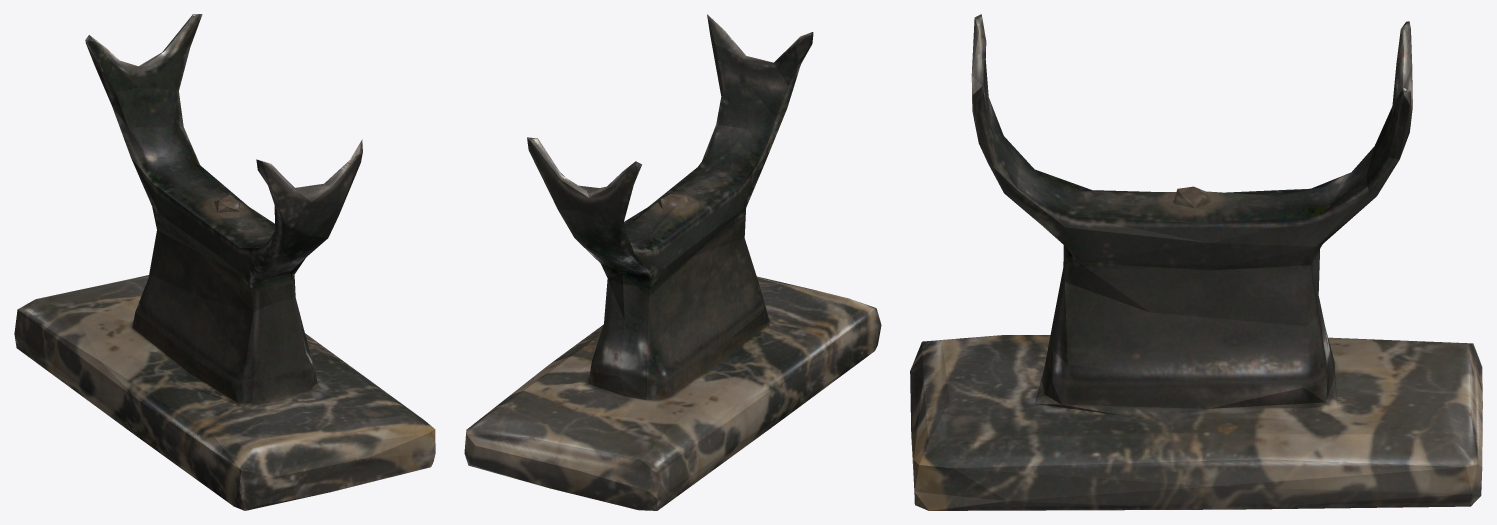
Rendered from 22AFA8BD-2F82-4B40-9D7F-15DBDE55BE38_512.glb.
The picture shows the model from 3 angles, left to right: view 1: azimuth 30°, elevation 25°; view 2: azimuth 150°, elevation 25°; view 3: azimuth 270°, elevation 25°; orthographic projection. The views are drawn at different scales.
Parts seen in each view (by area): view 1: Loetkolben_0.4k_0.5k; view 2: Loetkolben_0.4k_0.5k; view 3: Loetkolben_0.4k_0.5k.
Boxes of the visible parts, box(x1,y1,x2,y2) form: Loetkolben_0.4k_0.5k: box(14, 14, 435, 510); Loetkolben_0.4k_0.5k: box(464, 14, 881, 510); Loetkolben_0.4k_0.5k: box(910, 14, 1482, 510).
Bounding box in the file's own units: 0.0704 × 0.1086 × 0.1395.
1 material, 1 textured.
